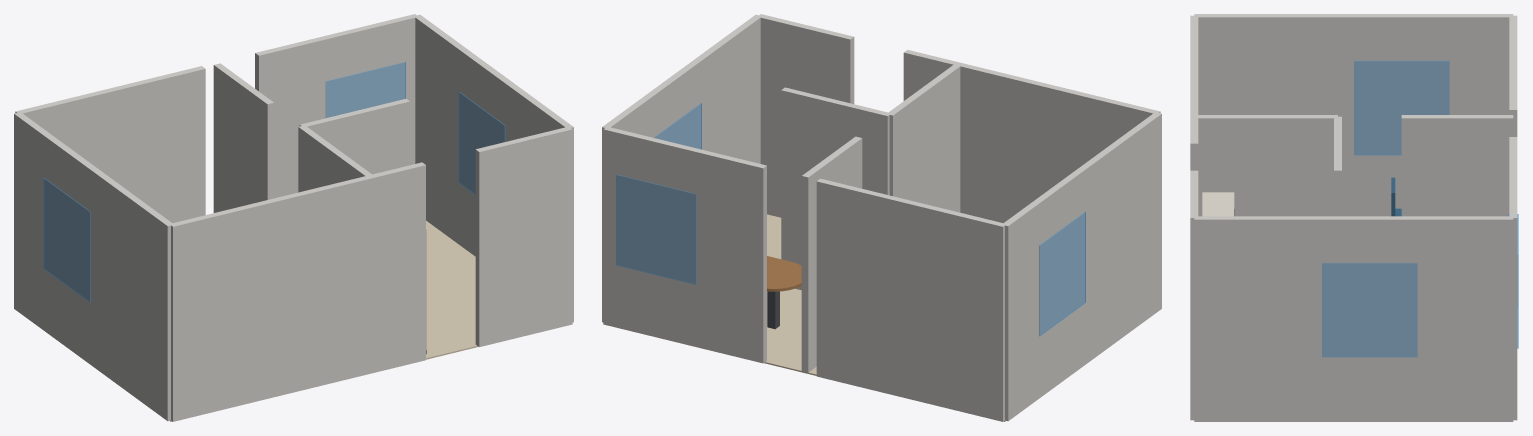
The picture shows the model from 3 angles, left to right: view 1: azimuth 30°, elevation 25°; view 2: azimuth 150°, elevation 25°; view 3: azimuth 270°, elevation 25°; orthographic projection. The views are drawn at different scales.
Parts seen in each view (by area): view 1: wall_05, wall_06, wall_04, wall_03, wall_01, wall_02, wall_07, floor, wall_09, window_03, window_01, wall_08 (+1 smaller); view 2: wall_01, wall_02, wall_06, wall_05, wall_03, wall_09, wall_04, wall_08, window_01, wall_07, window_03, floor (+2 smaller); view 3: wall_03, wall_06, wall_08, wall_07, window_02, window_03, wall_02, wall_04, wall_05, wall_01, cabinet_01/cabinet_01_body, wall_09.
Part boxes in pixels (box(x1,y1,x2,y2)): wall_05: box(169, 162, 425, 421); wall_06: box(14, 113, 173, 421); wall_04: box(475, 126, 572, 346); wall_03: box(414, 14, 573, 322); wall_01: box(15, 66, 205, 223); wall_02: box(255, 14, 417, 198); wall_07: box(213, 63, 274, 212); floor: box(170, 220, 478, 421); wall_09: box(299, 98, 409, 174); window_03: box(43, 178, 90, 302); window_01: box(325, 62, 405, 117); wall_08: box(298, 126, 373, 192); wall_01: box(816, 178, 1006, 421); wall_02: box(603, 126, 766, 363); wall_06: box(1003, 113, 1161, 421); wall_05: box(903, 49, 1160, 223); wall_03: box(602, 14, 761, 322); wall_09: box(781, 87, 889, 290); wall_04: box(757, 14, 854, 217); wall_08: box(887, 64, 961, 212); window_01: box(616, 174, 696, 284); wall_07: box(801, 136, 862, 372); window_03: box(1039, 212, 1085, 336); floor: box(764, 214, 1005, 421); wall_03: box(1194, 216, 1513, 421); wall_06: box(1194, 14, 1513, 216); wall_08: box(1194, 115, 1337, 216); wall_07: box(1401, 115, 1513, 216); window_02: box(1322, 263, 1417, 357); window_03: box(1354, 60, 1449, 155); wall_02: box(1509, 137, 1517, 420); wall_04: box(1190, 170, 1198, 420); wall_05: box(1190, 15, 1198, 170); wall_01: box(1509, 15, 1517, 136); cabinet_01/cabinet_01_body: box(1202, 192, 1234, 216); wall_09: box(1334, 116, 1341, 216).
Bounding box in the file's own units: 6.13 × 2.82 × 4.12.
